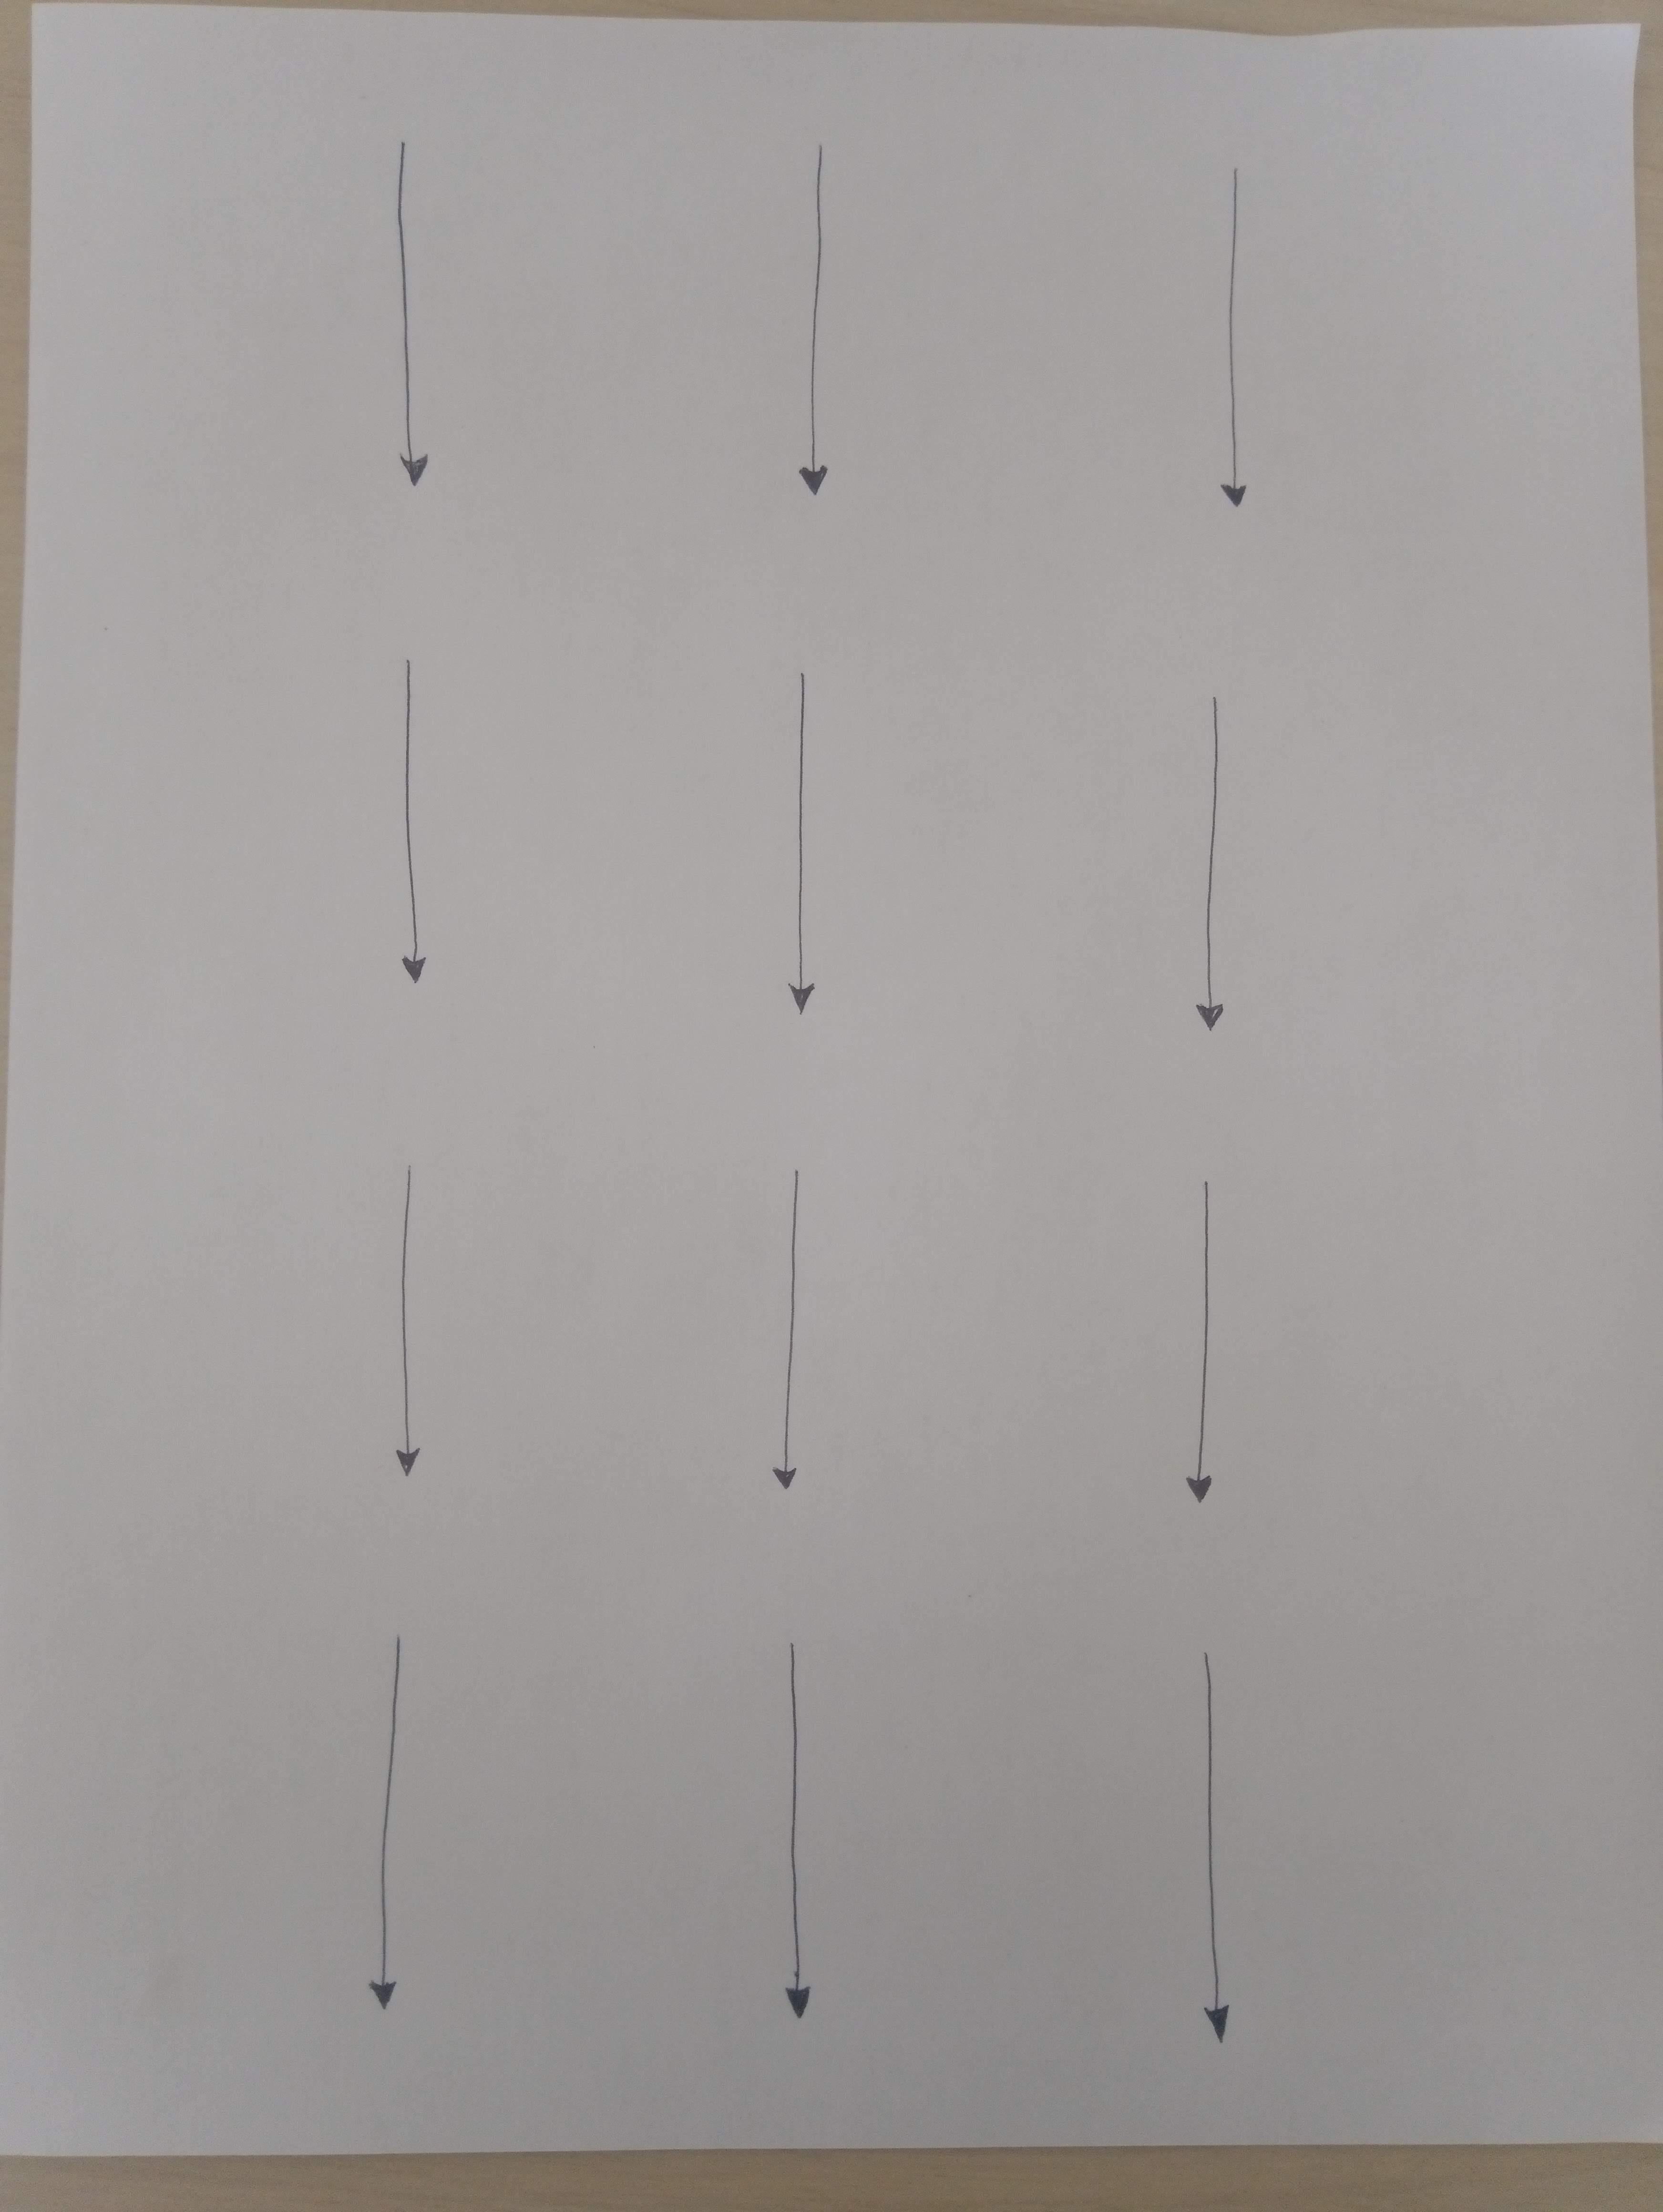arrow_line_down: (1146, 1634, 1272, 2060), (751, 1645, 879, 2034), (381, 641, 491, 1018), (332, 145, 445, 505), (765, 138, 865, 505), (1176, 669, 1268, 1061), (772, 651, 861, 1021), (1183, 171, 1275, 522), (739, 1161, 828, 1524), (358, 1178, 438, 1484), (1165, 1168, 1239, 1501), (351, 1622, 409, 2023)
